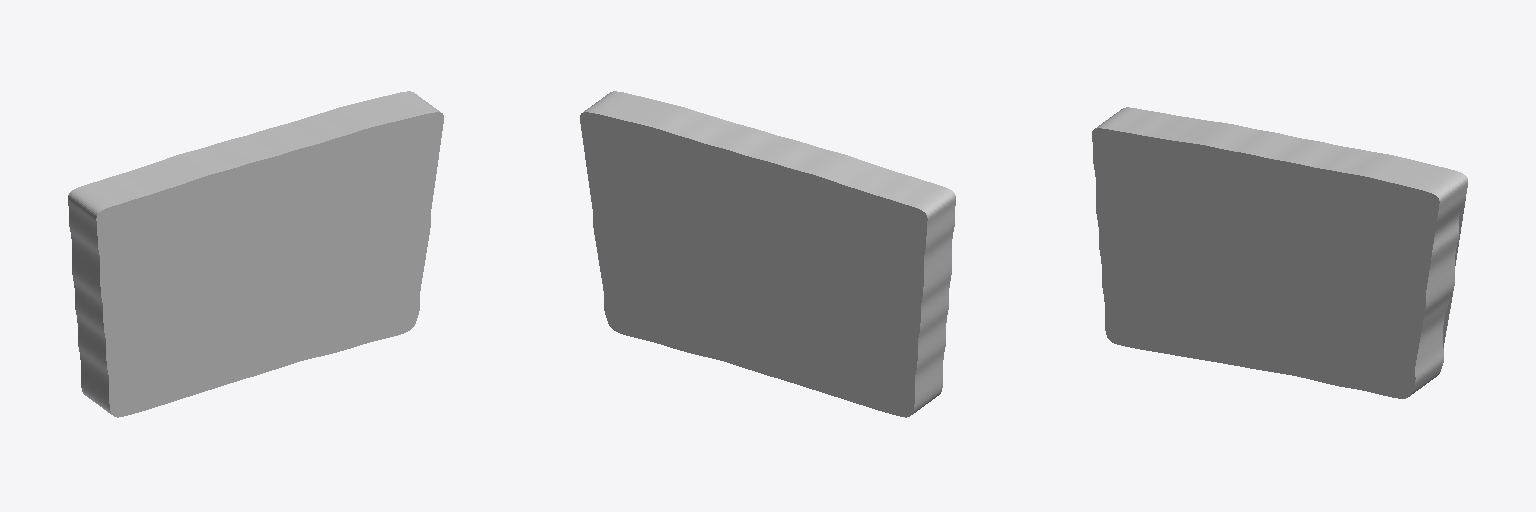
3 renders of one model, left to right at view 1: azimuth 30°, elevation 25°; view 2: azimuth 150°, elevation 25°; view 3: azimuth 330°, elevation 25°, orthographic.
Parts seen in each view (by area): view 1: 平面; view 2: 平面; view 3: 平面.
Part boxes in pixels (bbox=[...]): 平面: bbox=[68, 91, 443, 417]; 平面: bbox=[580, 91, 955, 417]; 平面: bbox=[1092, 107, 1467, 398].
Bounding box in the file's own units: 1.4 × 0.8816 × 0.2.